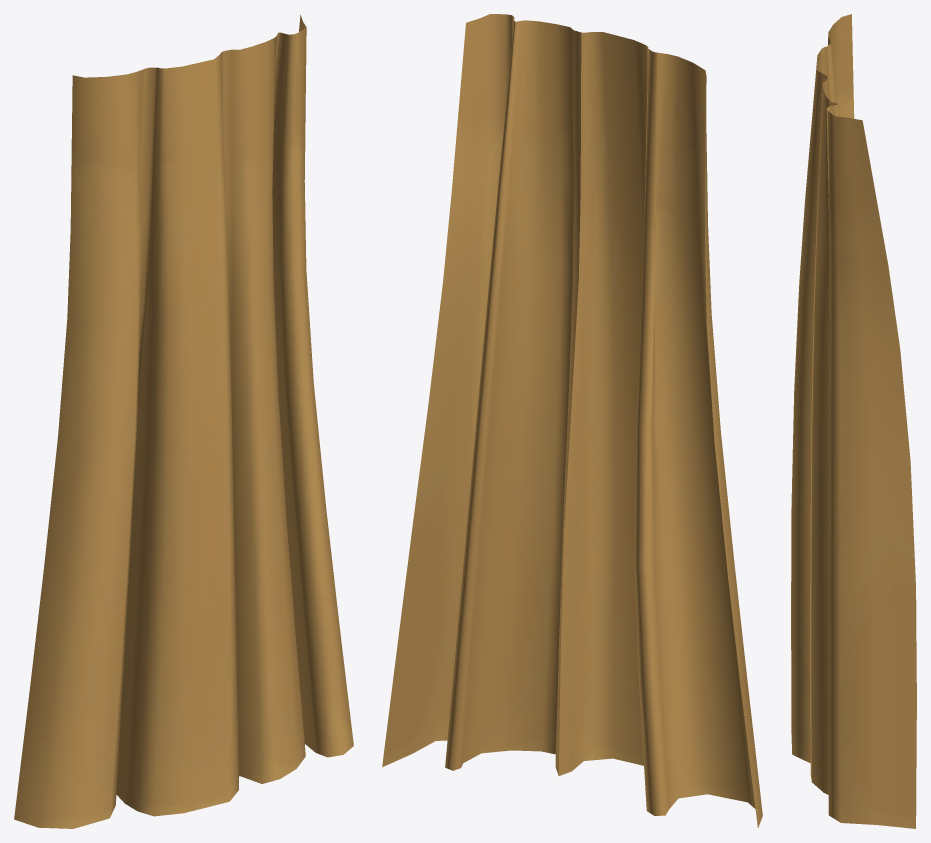
File: CurtainVertical1.fbx
3 renders of one model, left to right at view 1: azimuth 30°, elevation 25°; view 2: azimuth 150°, elevation 25°; view 3: azimuth 270°, elevation 25°, orthographic. The views are drawn at different scales.
Visible parts, largest first — view 1: CurtainVertical1; view 2: CurtainVertical1; view 3: CurtainVertical1.
Part boxes in pixels (x1=…): CurtainVertical1: x1=14, y1=15, x2=353, y2=828; CurtainVertical1: x1=382, y1=14, x2=762, y2=827; CurtainVertical1: x1=791, y1=14, x2=916, y2=828.
Size of the model in its own units: 441 by 899 by 150.
